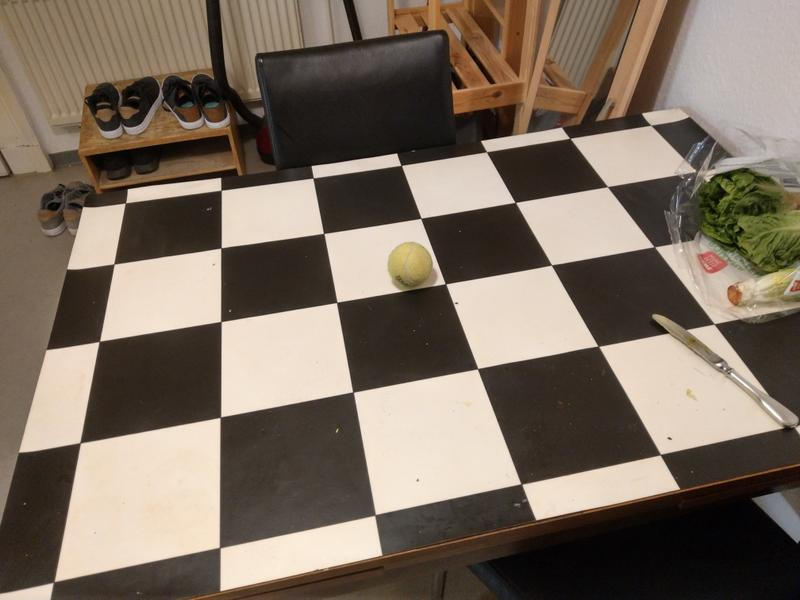Tennisball: (386, 239, 436, 291)
